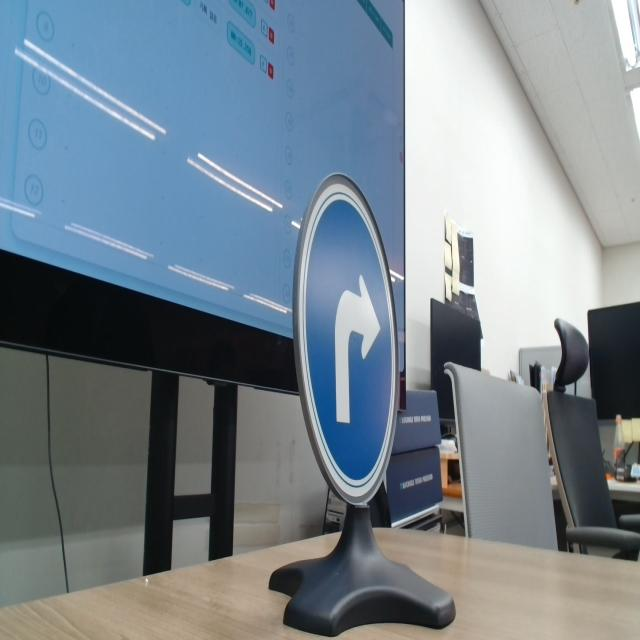right_dierection: (294, 161, 422, 518)
